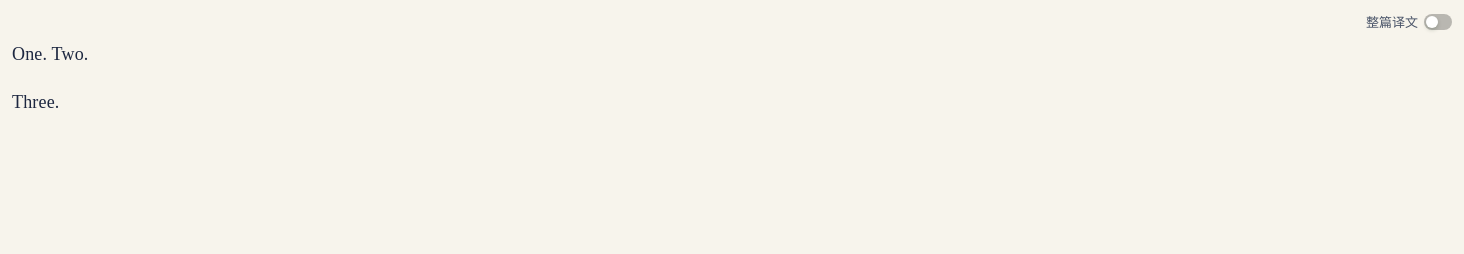
Test: TextReader › 按段落显示，点一句显示这一句的译文；整篇译文开关
Expected: the text "二。" is not shown
Click the button "Two.".
click(70, 54)  # box [52,43,89,65]
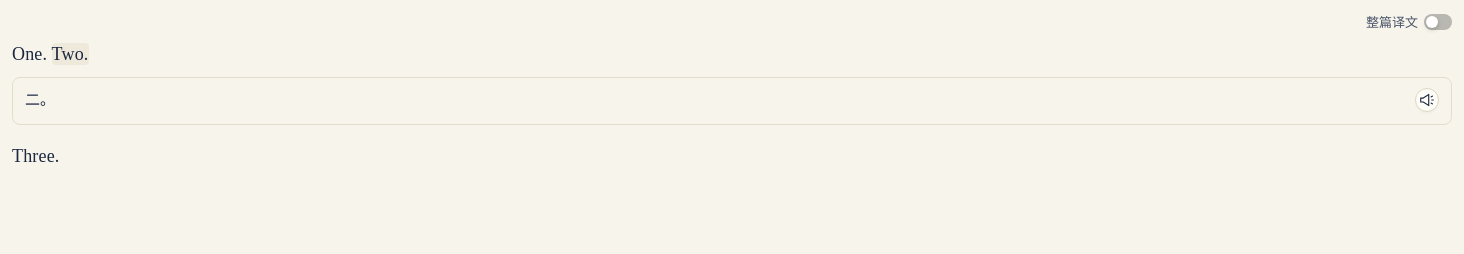
Expected: the text "三。" is not shown
Expected: the element showing "二。" is shown, [12,77,1452,125]
Click the switch.
click(1438, 22)  # box [1424,14,1452,30]
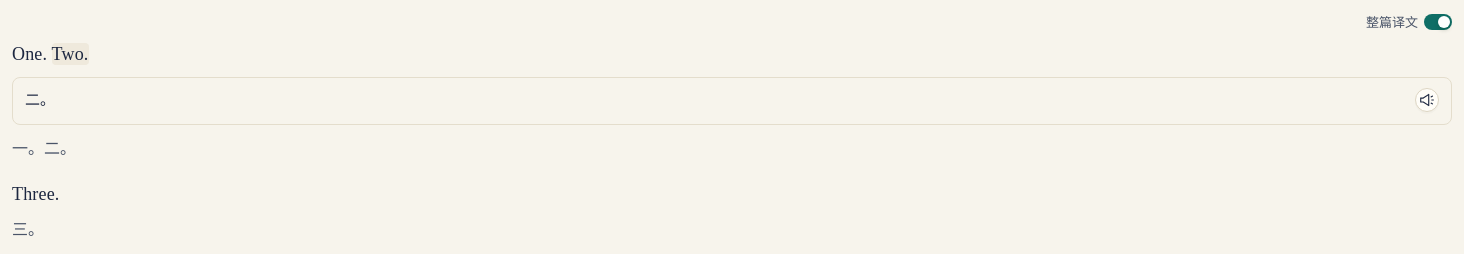
Expected: the text "三。" is shown, [12,221,44,238]
